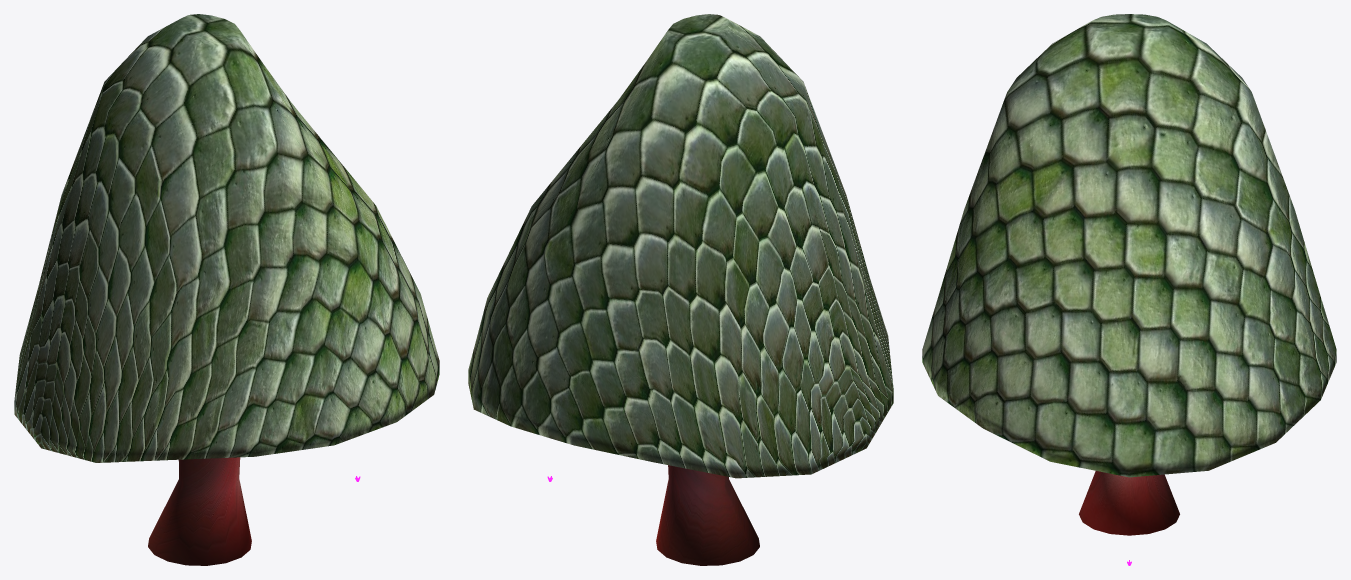
The model's file is track4Building2.glb.
The picture shows the model from 3 angles, left to right: view 1: azimuth 30°, elevation 25°; view 2: azimuth 150°, elevation 25°; view 3: azimuth 270°, elevation 25°; orthographic projection. The views are drawn at different scales.
Visible parts, largest first — view 1: track4Building2; view 2: track4Building2; view 3: track4Building2.
Part boxes in pixels (bbox=[...]): track4Building2: bbox=[14, 14, 439, 565]; track4Building2: bbox=[468, 14, 893, 565]; track4Building2: bbox=[922, 14, 1336, 535].
Bounding box in the file's own units: 8.78 × 11.55 × 8.78.
Materials: 3 (1 with a texture image).
